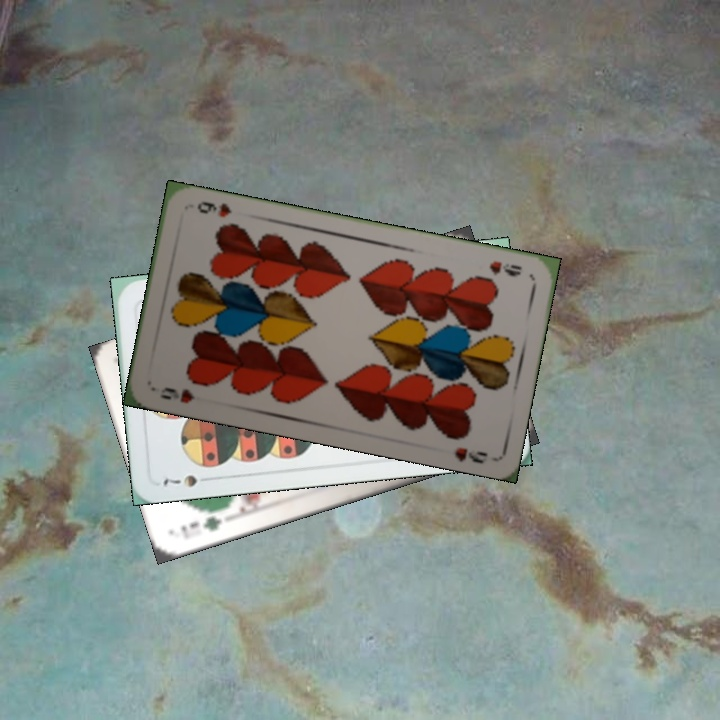GK: (176, 512, 224, 542)
H9: (156, 383, 197, 407), (485, 256, 525, 279)
S7: (159, 471, 215, 490)
